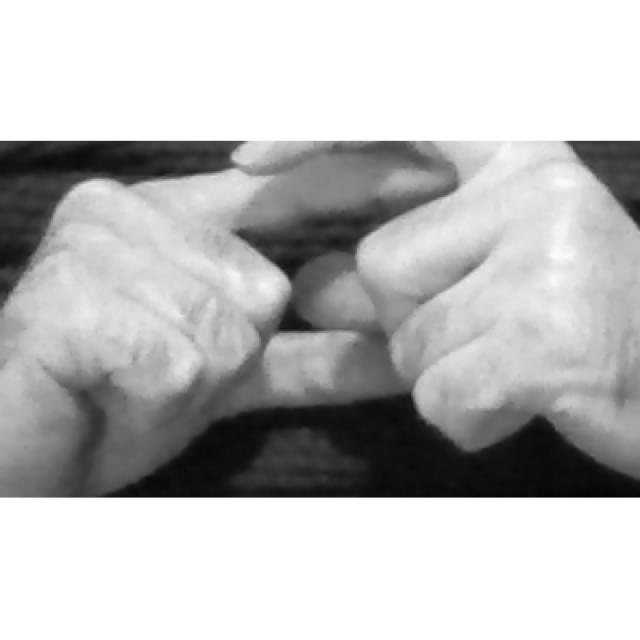G-: (1, 140, 639, 498)
